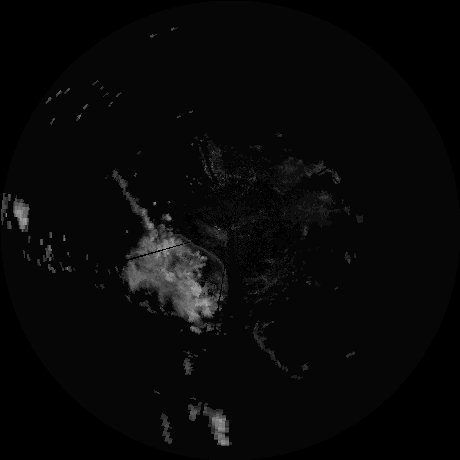frontgust: (253, 320, 269, 359), (214, 255, 227, 296)
